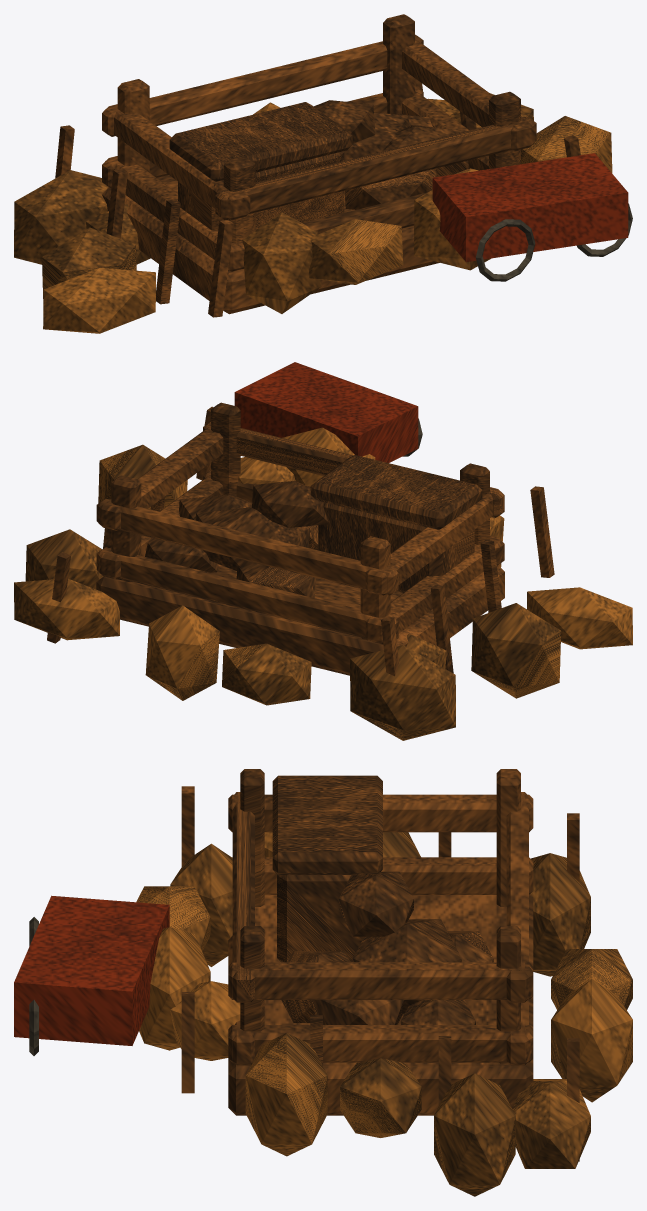
Rendered from tailings-and-scree-pack.glb.
3 views of the same model, one above another, from view 1: azimuth 30°, elevation 25°; view 2: azimuth 150°, elevation 25°; view 3: azimuth 270°, elevation 25° (orthographic). The views are drawn at different scales.
Parts seen in each view (by area): view 1: tailings-and-scree-pack; view 2: tailings-and-scree-pack; view 3: tailings-and-scree-pack.
Part boxes in pixels (bbox=[...]): tailings-and-scree-pack: bbox=[14, 14, 632, 333]; tailings-and-scree-pack: bbox=[14, 362, 632, 740]; tailings-and-scree-pack: bbox=[14, 769, 632, 1196].
Bounding box in the file's own units: 9.9 × 3.16 × 7.71.
1 material, 1 textured.
